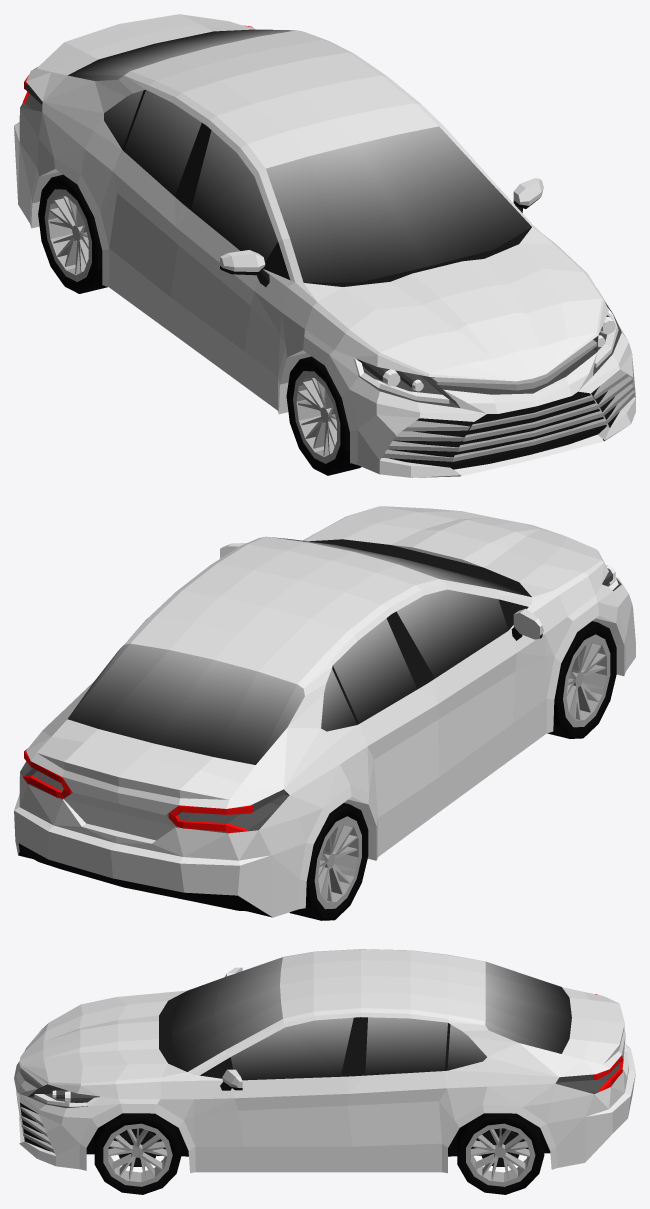
The model's file is sedan 1.fbx.
3 views of the same model, one above another, from view 1: azimuth 30°, elevation 25°; view 2: azimuth 150°, elevation 25°; view 3: azimuth 270°, elevation 25° (orthographic). The views are drawn at different scales.
Visible parts, largest first — view 1: Plane, RR_Wheel, FR_Wheel; view 2: Plane, RR_Wheel, FR_Wheel; view 3: Plane, FL_Wheel, RL_Wheel.
Boxes of the visible parts, <box> form: Plane: <box>14,14,635,477</box>; RR_Wheel: <box>38,174,107,293</box>; FR_Wheel: <box>286,356,361,475</box>; Plane: <box>14,506,635,917</box>; RR_Wheel: <box>289,803,368,920</box>; FR_Wheel: <box>547,621,616,738</box>; Plane: <box>14,949,635,1173</box>; FL_Wheel: <box>94,1113,181,1194</box>; RL_Wheel: <box>457,1113,544,1194</box>.
Size of the model in its own units: 220 by 154 by 507.
